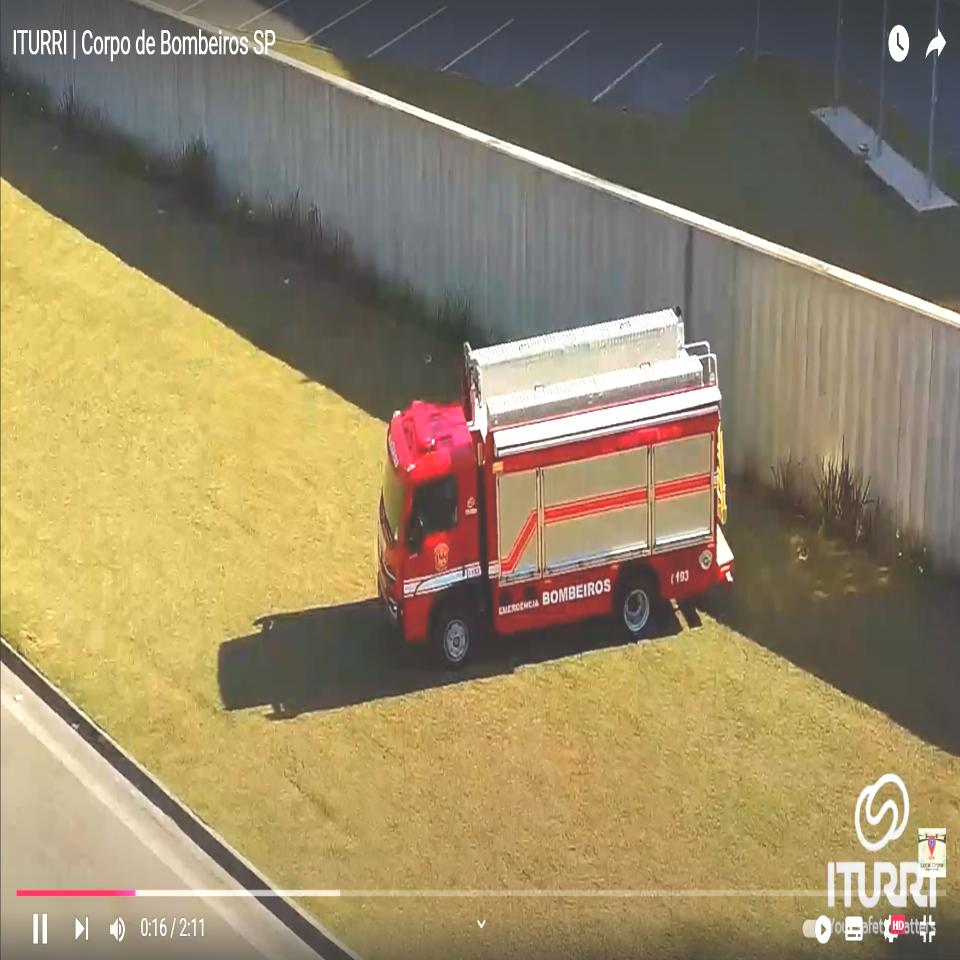bombeiro: (376, 306, 734, 669)
